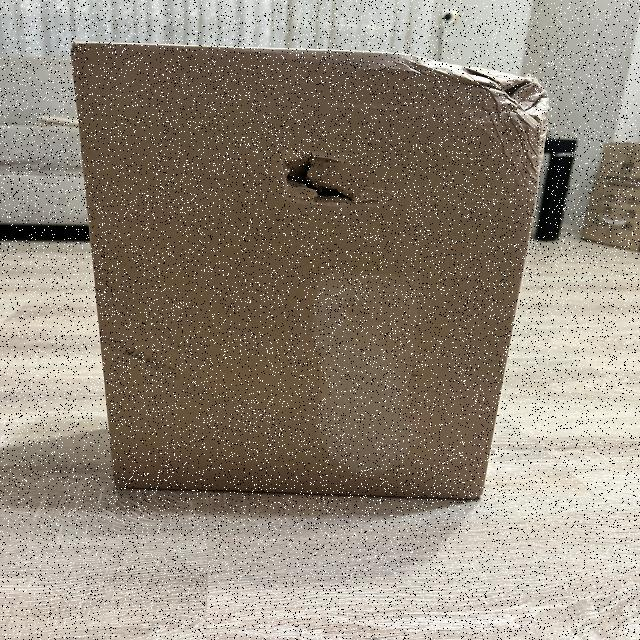damaged: (68, 36, 558, 518), (398, 40, 608, 166), (264, 138, 370, 211)
